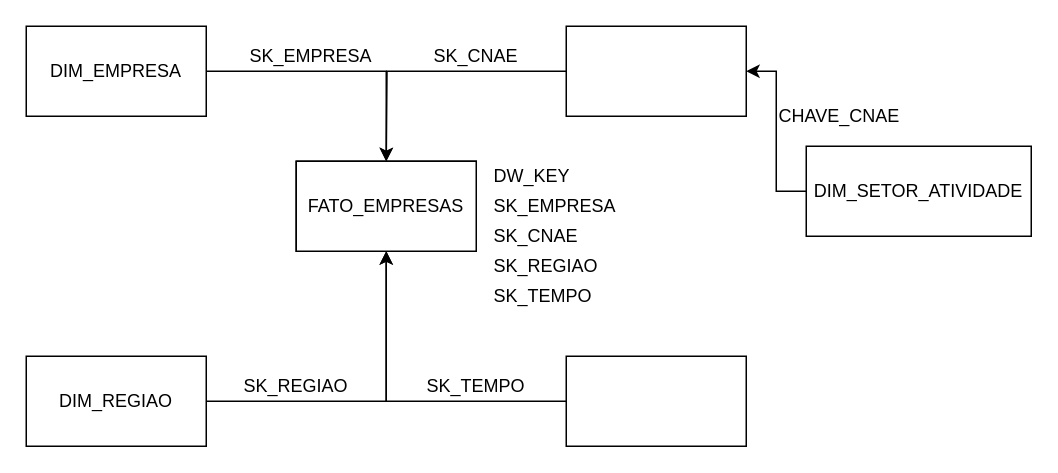
Image size: 1058x473. Some labels were removed from this diagram. The centre of each missing label's shape, as x and y in pixels:
DIM_CNAE: (x=655, y=70)
DIM_TEMPO: (x=655, y=400)
